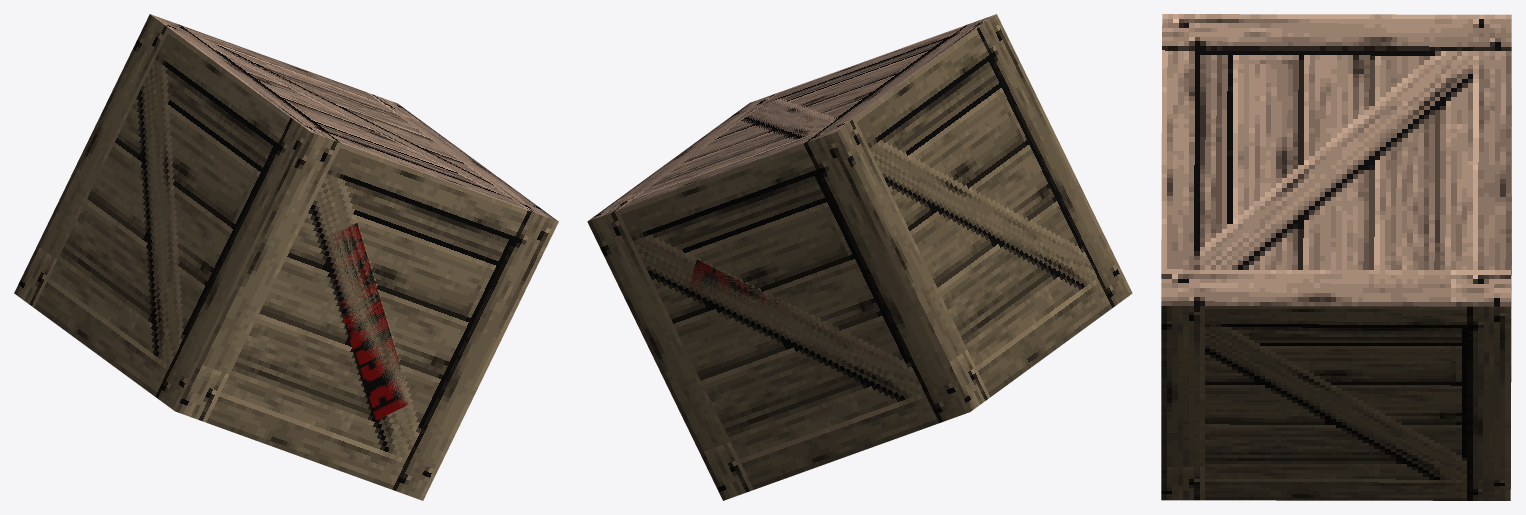
The model's file is primary_162.glb.
3 views of the same model, side by side, from view 1: azimuth 30°, elevation 25°; view 2: azimuth 150°, elevation 25°; view 3: azimuth 270°, elevation 25° (orthographic). The views are drawn at different scales.
Parts seen in each view (by area): view 1: Object; view 2: Object; view 3: Object.
Boxes of the visible parts, x1,y1,x2,y2 form: Object: (14, 14, 558, 500); Object: (587, 14, 1132, 500); Object: (1161, 14, 1511, 500).
Bounding box in the file's own units: 1.86 × 1.84 × 1.36.
Materials: 7 (7 with a texture image).
